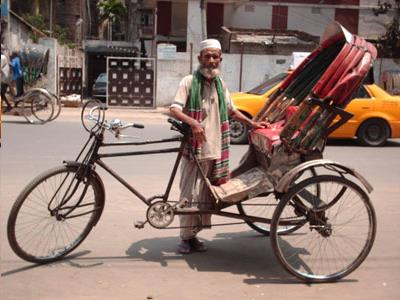Rickshaw: (19, 23, 380, 242), (2, 42, 60, 124)
